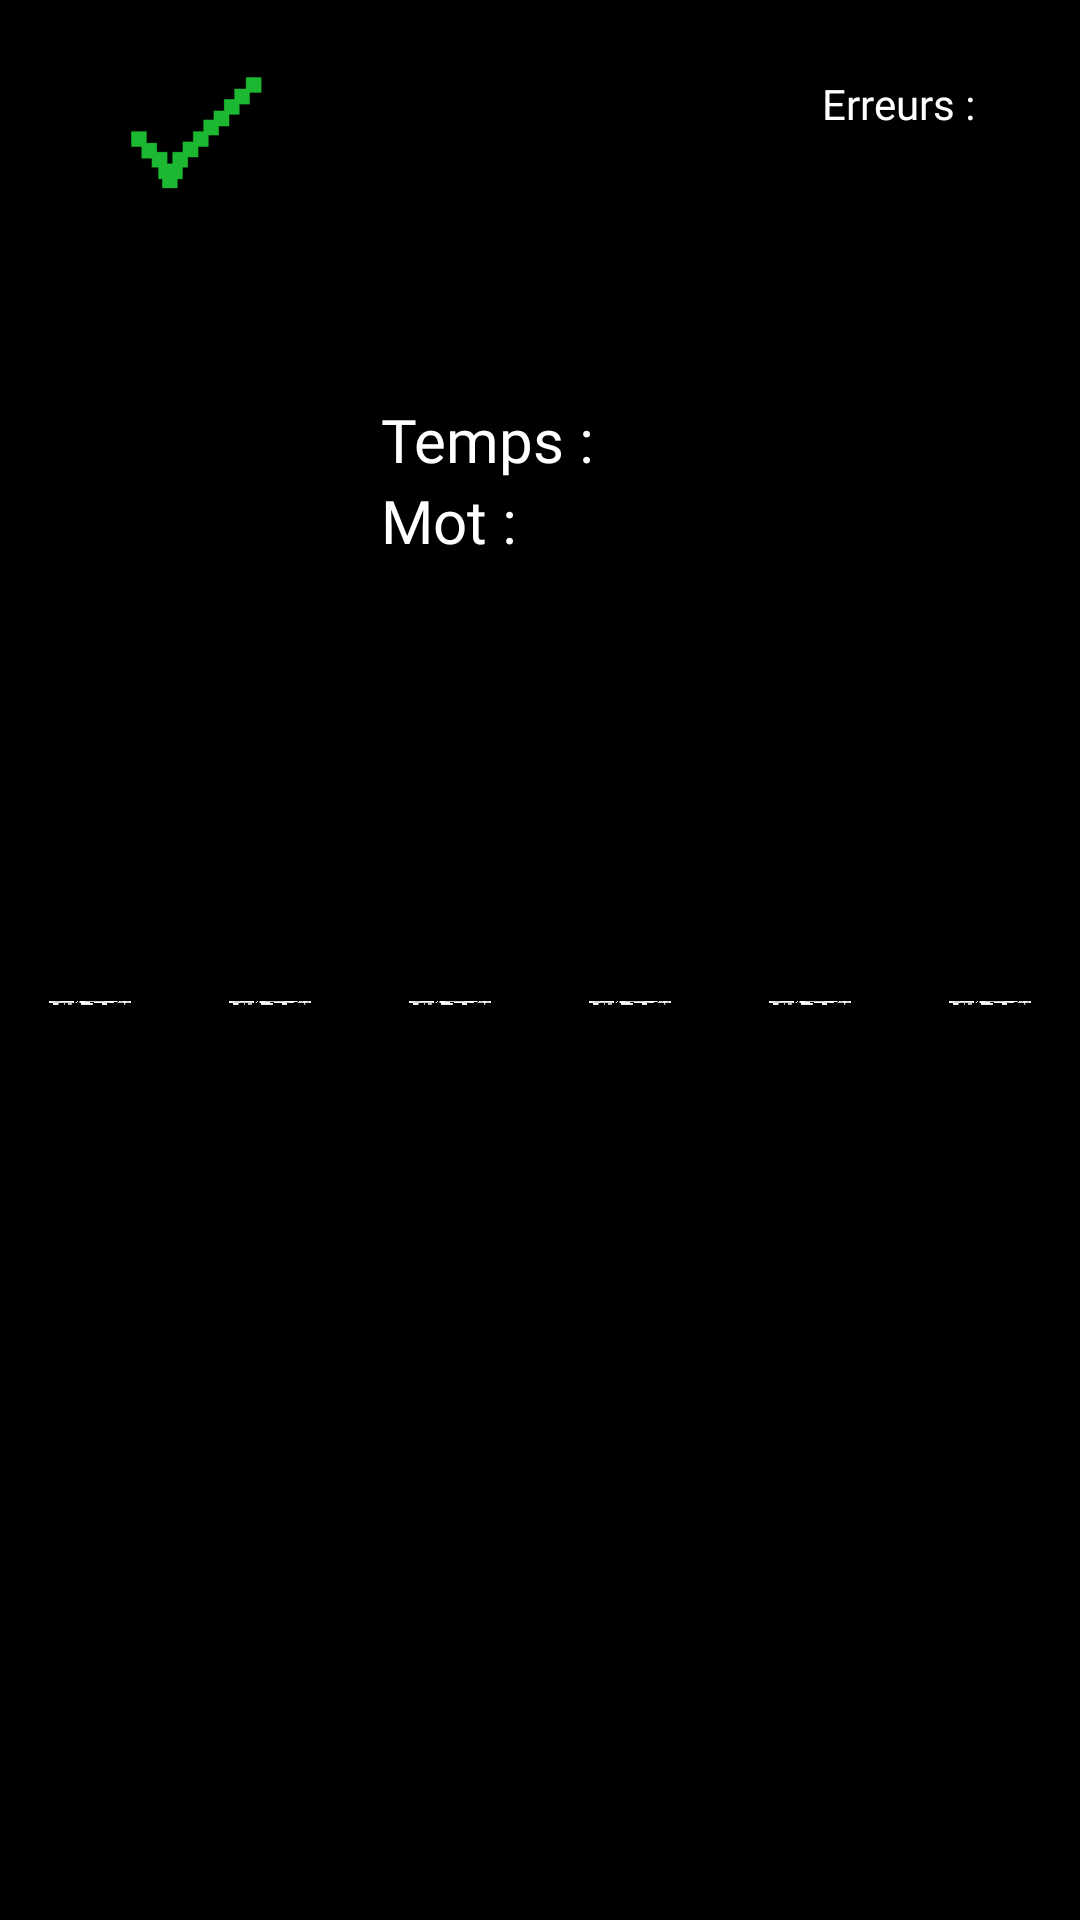

Where icons sit on this 1080 × 1920 app screen, as (x1, y1, x2, y2):
win: (131, 77, 262, 189)
